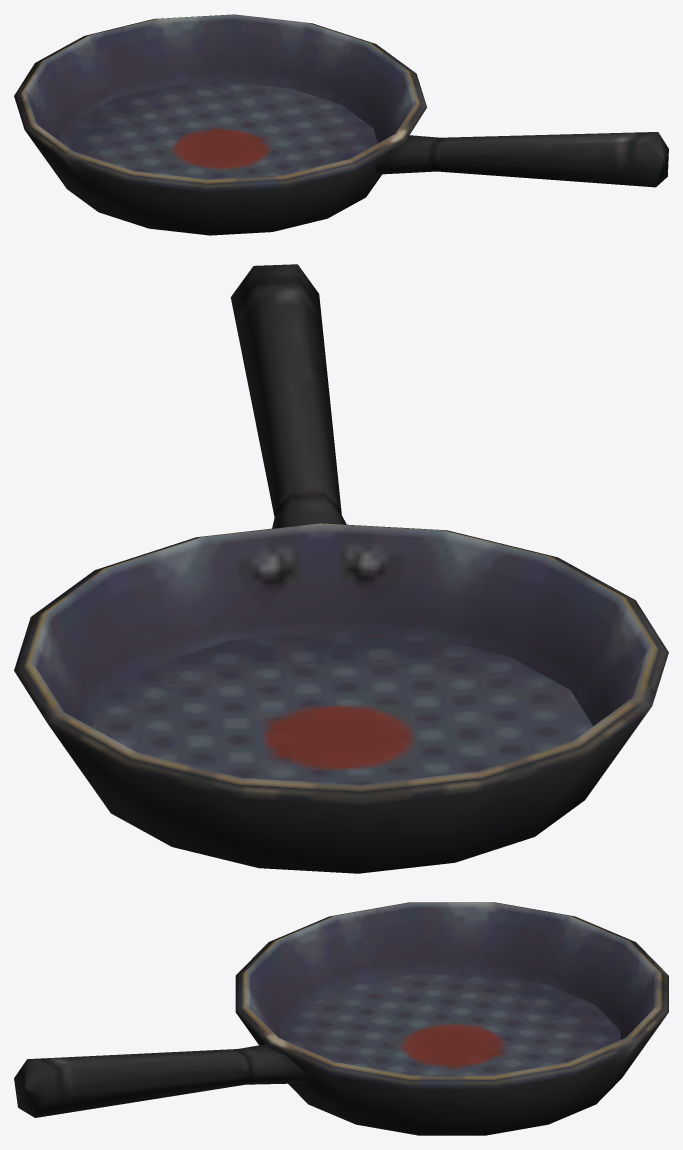
File: paellaFregadero.fbx
3 views of the same model, one above another, from view 1: azimuth 30°, elevation 25°; view 2: azimuth 150°, elevation 25°; view 3: azimuth 270°, elevation 25° (orthographic). The views are drawn at different scales.
Visible parts, largest first — view 1: s4studio_mesh_1; view 2: s4studio_mesh_1; view 3: s4studio_mesh_1.
Boxes of the visible parts, x1,y1,x2,y2 form: s4studio_mesh_1: (14,14,668,235); s4studio_mesh_1: (14,264,668,873); s4studio_mesh_1: (14,902,668,1135).
Size of the model in its own units: 36.39 by 9.19 by 44.47.
1 material, 1 textured.
